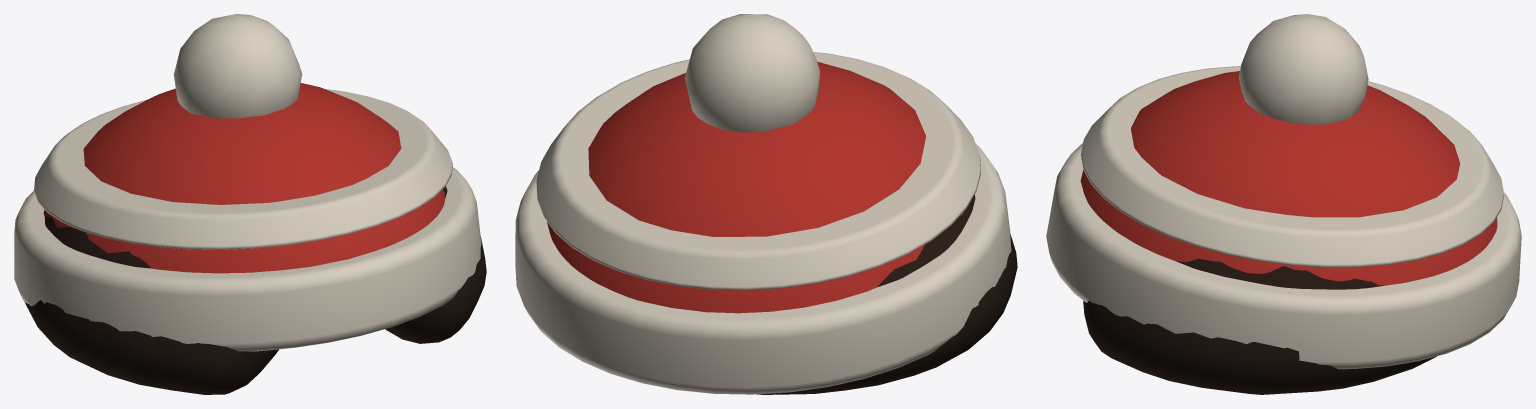
Rendered from outfit_winter.glb.
3 renders of one model, left to right at view 1: azimuth 30°, elevation 25°; view 2: azimuth 150°, elevation 25°; view 3: azimuth 270°, elevation 25°, orthographic. The views are drawn at different scales.
Parts seen in each view (by area): view 1: outfit_winter, outfit_winter_hair_f; view 2: outfit_winter, outfit_winter_hair_f; view 3: outfit_winter, outfit_winter_hair_f.
Boxes of the visible parts, x1,y1,x2,y2 form: outfit_winter: (14, 14, 481, 351); outfit_winter_hair_f: (24, 186, 486, 394); outfit_winter: (515, 14, 1011, 394); outfit_winter_hair_f: (757, 195, 1017, 394); outfit_winter: (1046, 14, 1521, 369); outfit_winter_hair_f: (1083, 258, 1436, 394).
Bounding box in the file's own units: 0.4042 × 0.271 × 0.401.
